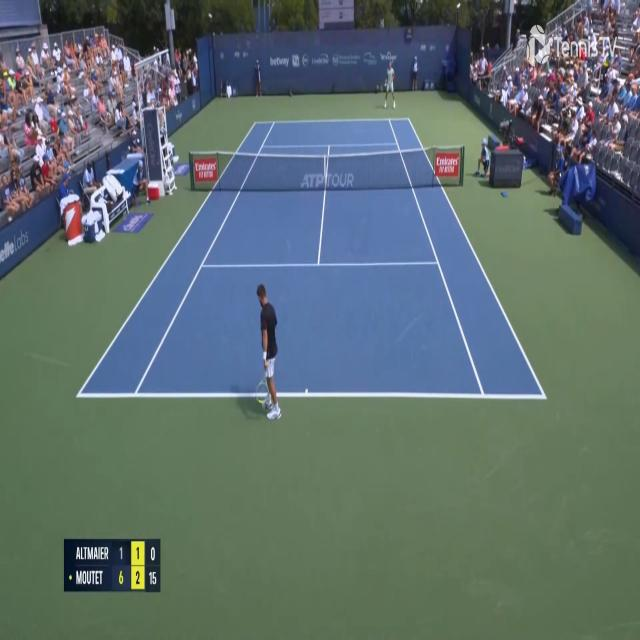tennis-player: (255, 279, 282, 423), (380, 60, 396, 108)
